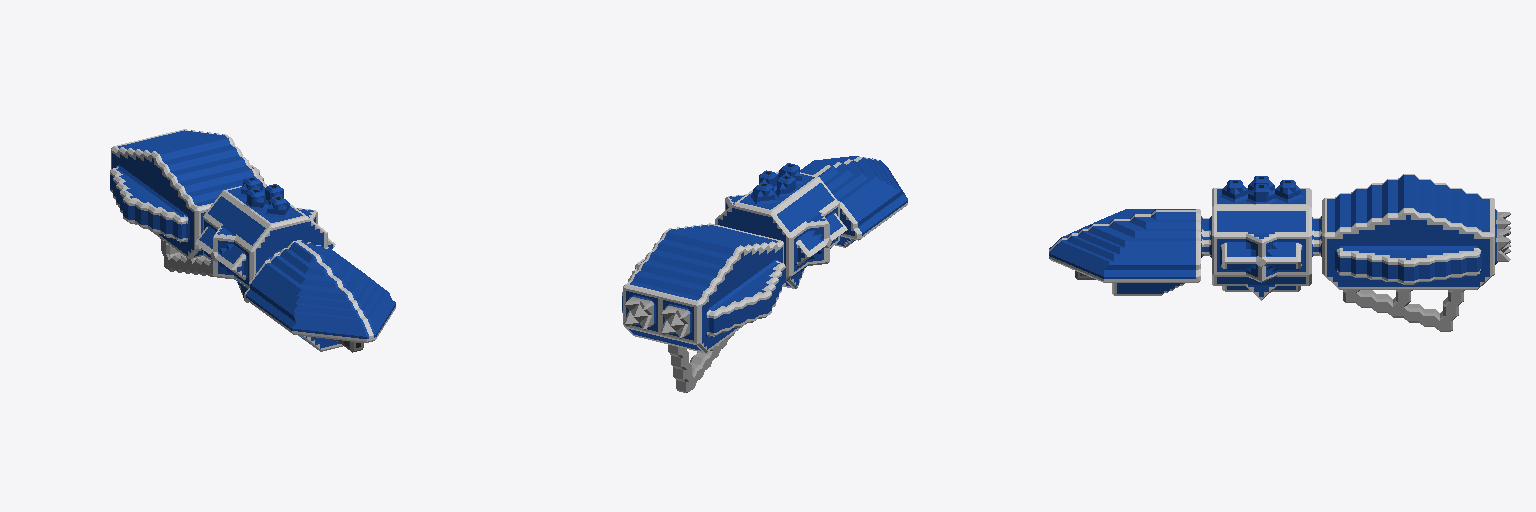
The picture shows the model from 3 angles: view 1: azimuth 30°, elevation 25°; view 2: azimuth 150°, elevation 25°; view 3: azimuth 270°, elevation 25°; orthographic projection.
Bounding box in the file's own units: 29 × 31 × 88.
Materials: 1 (1 with a texture image).